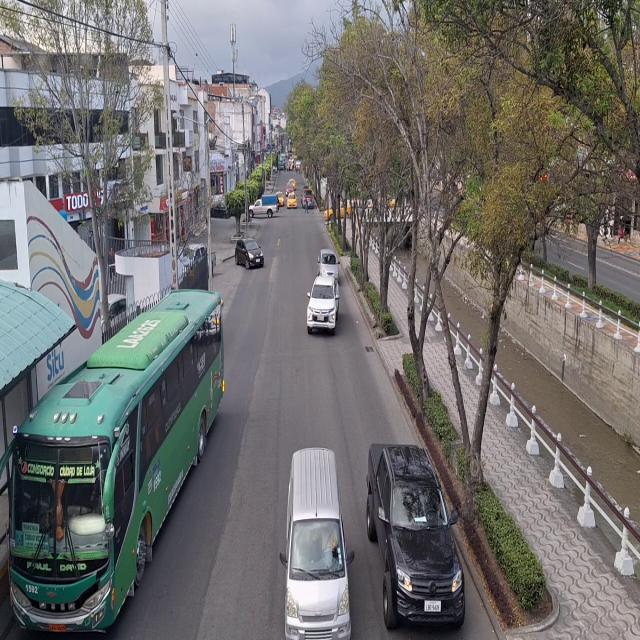BUS: (3, 371, 171, 640)
CMT: (368, 434, 464, 625), (248, 194, 278, 218)
